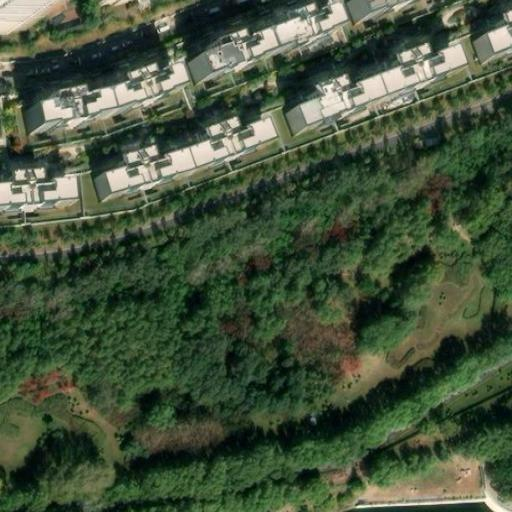building: (303, 41, 468, 125), (110, 115, 277, 193), (210, 0, 350, 70), (25, 77, 175, 136), (0, 177, 66, 213), (0, 0, 31, 31)
